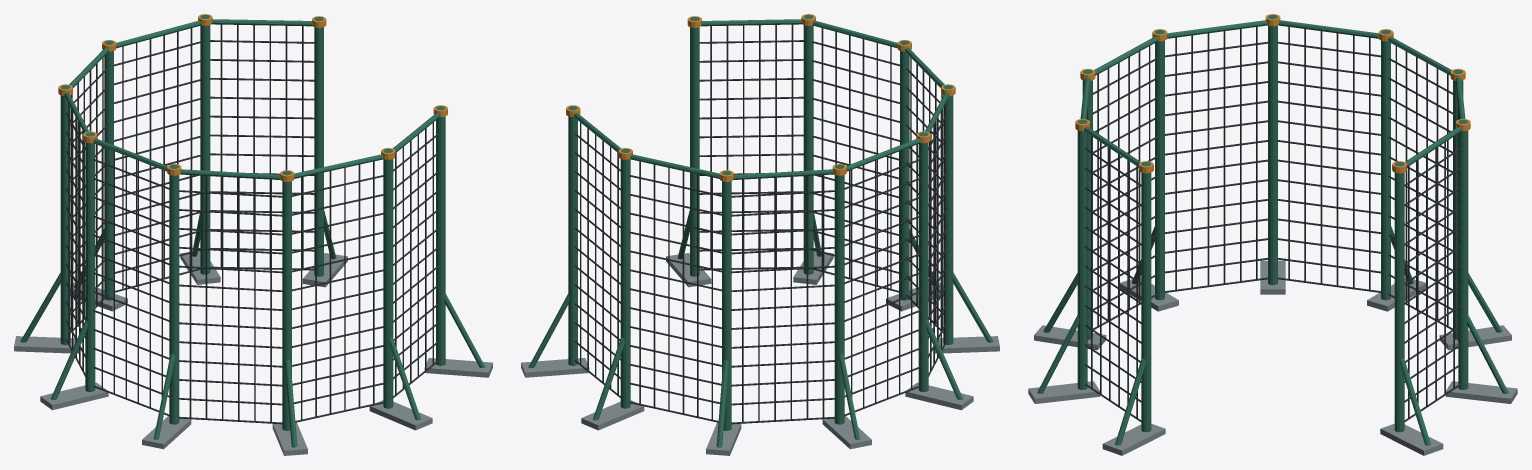
3 views of the same model, side by side, from view 1: azimuth 30°, elevation 25°; view 2: azimuth 150°, elevation 25°; view 3: azimuth 270°, elevation 25° (orthographic). The views are drawn at different scales.
Parts seen in each view (by area): view 1: WholeOpenCordNetPanel05, WholeOpenCordNetPanel06, WholeOpenCordNetPanel00, WholeOpenCordNetPanel04, WholeOpenCordNetPanel01, WholeOpenCordNetPanel07, WholeOpenCordNetPanel03, WholeTallUpright07, WholeTallUpright04, WholeTallUpright05, WholeTallUpright01, WholeTallUpright08 (+24 smaller); view 2: WholeOpenCordNetPanel02, WholeOpenCordNetPanel01, WholeOpenCordNetPanel07, WholeOpenCordNetPanel03, WholeOpenCordNetPanel06, WholeOpenCordNetPanel00, WholeOpenCordNetPanel04, WholeTallUpright01, WholeTallUpright04, WholeTallUpright03, WholeTallUpright07, WholeTallUpright00 (+24 smaller); view 3: WholeOpenCordNetPanel03, WholeOpenCordNetPanel04, WholeOpenCordNetPanel00, WholeOpenCordNetPanel07, WholeOpenCordNetPanel02, WholeOpenCordNetPanel05, WholeTallUpright00, WholeTallUpright08, WholeTallUpright01, WholeTallUpright07, WholeTallUpright04, WholeTallUpright03 (+18 smaller).
Part boxes in pixels (x1=…): WholeOpenCordNetPanel05: x1=179, y1=175, x2=282, y2=424; WholeOpenCordNetPanel06: x1=292, y1=161, x2=384, y2=422; WholeOpenCordNetPanel00: x1=210, y1=24, x2=314, y2=270; WholeOpenCordNetPanel04: x1=93, y1=146, x2=169, y2=415; WholeOpenCordNetPanel01: x1=114, y1=28, x2=201, y2=292; WholeOpenCordNetPanel07: x1=393, y1=122, x2=439, y2=397; WholeOpenCordNetPanel03: x1=66, y1=103, x2=85, y2=376; WholeTallUpright07: x1=383, y1=148, x2=393, y2=408; WholeTallUpright04: x1=85, y1=132, x2=95, y2=391; WholeTallUpright05: x1=169, y1=164, x2=179, y2=424; WholeTallUpright01: x1=200, y1=14, x2=210, y2=274; WholeTallUpright08: x1=436, y1=106, x2=445, y2=365; WholeOpenCordNetPanel02: x1=731, y1=175, x2=834, y2=424; WholeOpenCordNetPanel01: x1=629, y1=161, x2=721, y2=422; WholeOpenCordNetPanel07: x1=699, y1=24, x2=803, y2=270; WholeOpenCordNetPanel03: x1=844, y1=146, x2=920, y2=415; WholeOpenCordNetPanel06: x1=812, y1=28, x2=899, y2=292; WholeOpenCordNetPanel00: x1=574, y1=122, x2=620, y2=397; WholeOpenCordNetPanel04: x1=928, y1=103, x2=947, y2=376; WholeTallUpright01: x1=620, y1=148, x2=630, y2=408; WholeTallUpright04: x1=918, y1=132, x2=928, y2=391; WholeTallUpright03: x1=834, y1=164, x2=844, y2=424; WholeTallUpright07: x1=803, y1=14, x2=813, y2=274; WholeTallUpright00: x1=568, y1=106, x2=577, y2=365; WholeOpenCordNetPanel03: x1=1277, y1=27, x2=1380, y2=292; WholeOpenCordNetPanel04: x1=1165, y1=27, x2=1268, y2=292; WholeOpenCordNetPanel00: x1=1404, y1=136, x2=1461, y2=421; WholeOpenCordNetPanel07: x1=1084, y1=136, x2=1141, y2=421; WholeOpenCordNetPanel02: x1=1388, y1=46, x2=1452, y2=329; WholeOpenCordNetPanel05: x1=1093, y1=46, x2=1157, y2=329; WholeTallUpright00: x1=1394, y1=162, x2=1404, y2=432; WholeTallUpright08: x1=1141, y1=162, x2=1151, y2=432; WholeTallUpright01: x1=1458, y1=119, x2=1468, y2=389; WholeTallUpright07: x1=1077, y1=119, x2=1087, y2=389; WholeTallUpright04: x1=1268, y1=15, x2=1277, y2=285; WholeTallUpright03: x1=1381, y1=30, x2=1390, y2=300.
Size of the model in its own units: 5.7 by 3.8 by 6.21.
